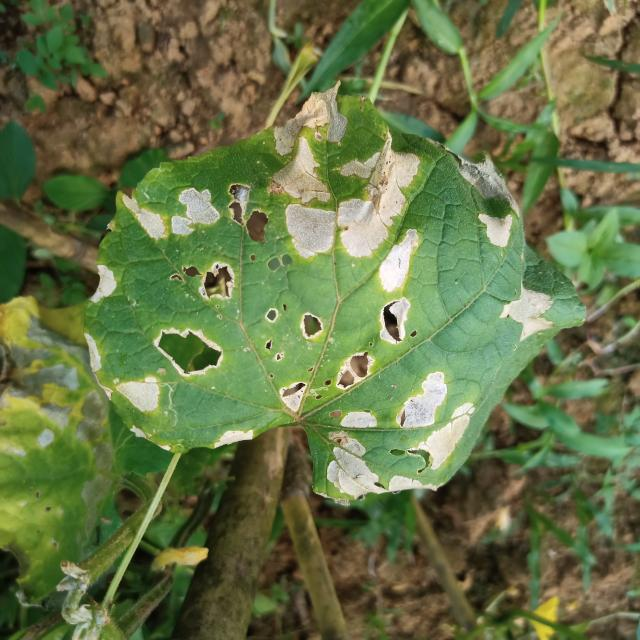disease_cucumber: (84, 90, 556, 493)
